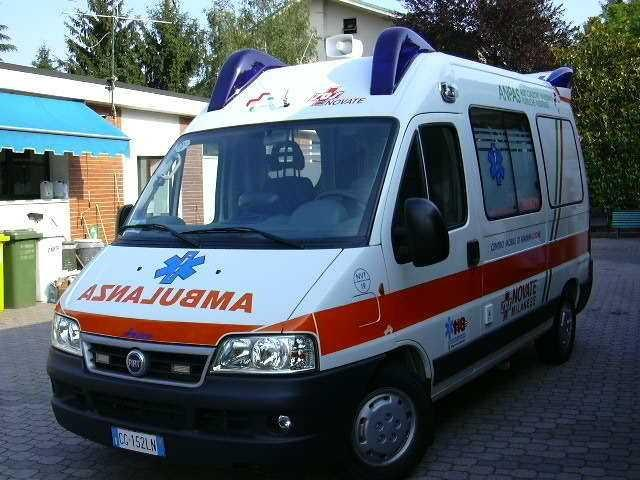car: (45, 25, 593, 478)
